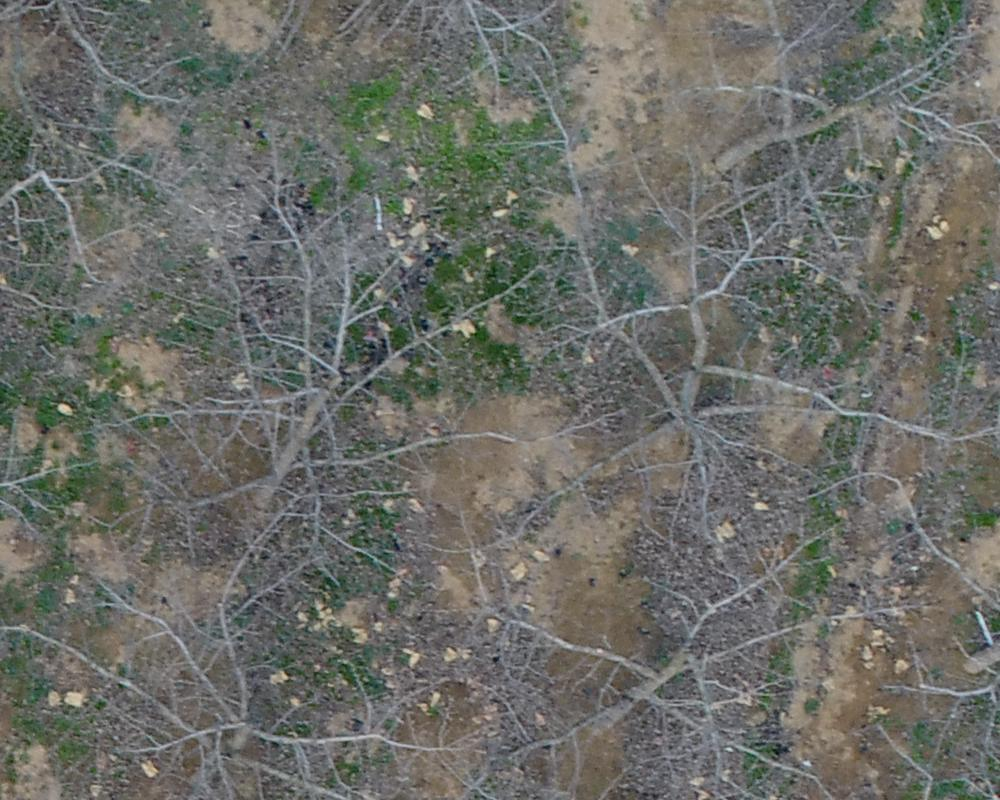apple: (104, 146, 557, 541), (514, 163, 990, 534), (31, 510, 465, 790), (460, 545, 941, 790), (659, 10, 990, 244)
